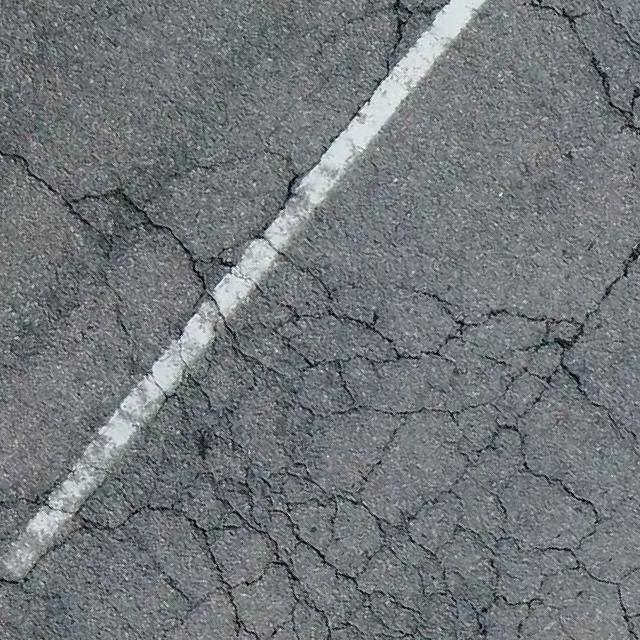GRIETA: (318, 0, 453, 161), (585, 241, 639, 320), (0, 150, 70, 203)
PIEL DE COCODRILO: (0, 146, 639, 639), (489, 0, 639, 143)
